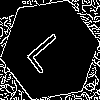L: (25, 25, 75, 75)
